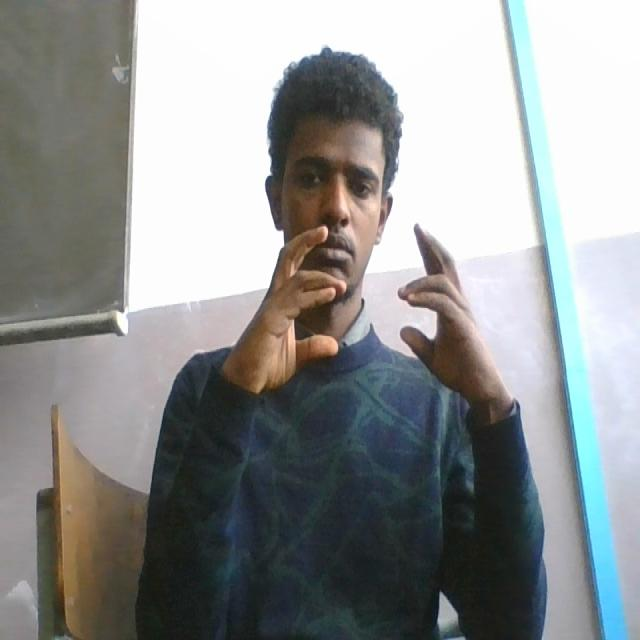sefer: (231, 217, 506, 404)
